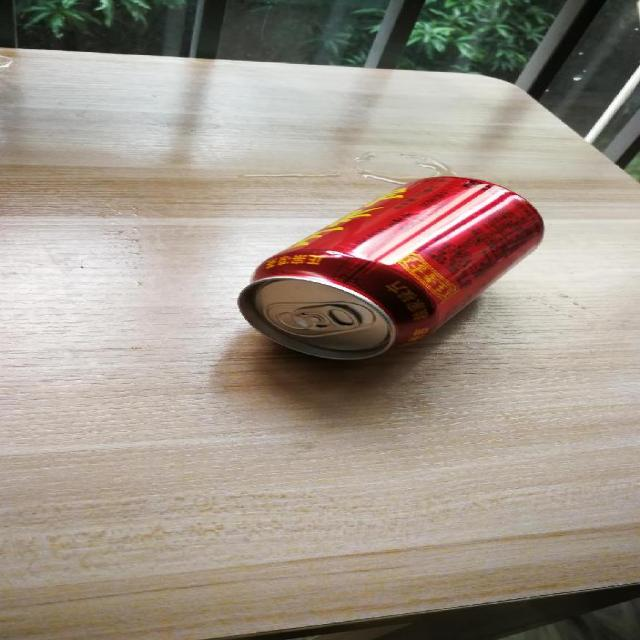-Recyclables - can-: (244, 173, 548, 358)
